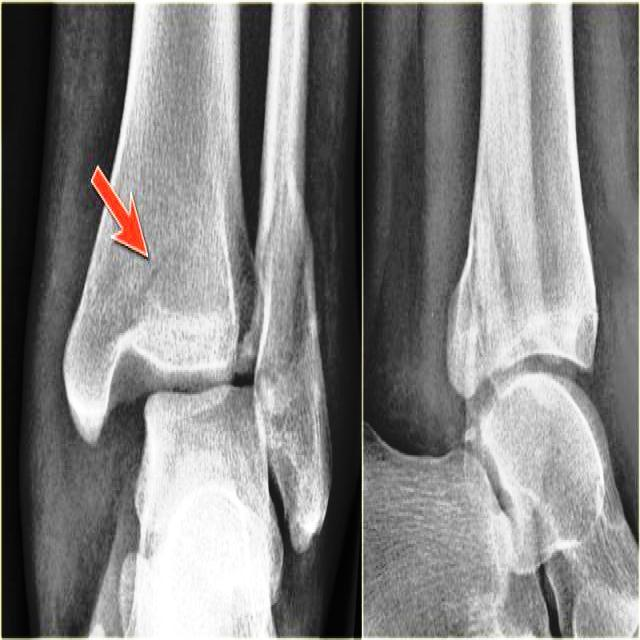HairLine Fracture: (125, 261, 173, 301)
